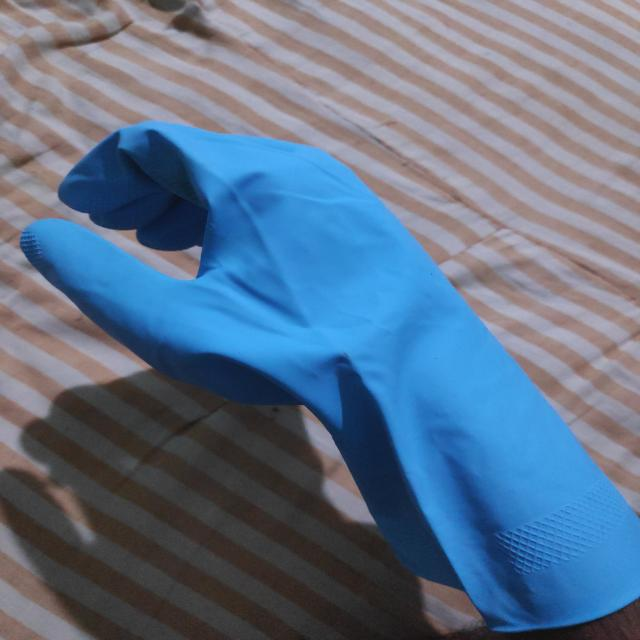glove: (13, 117, 634, 635)
